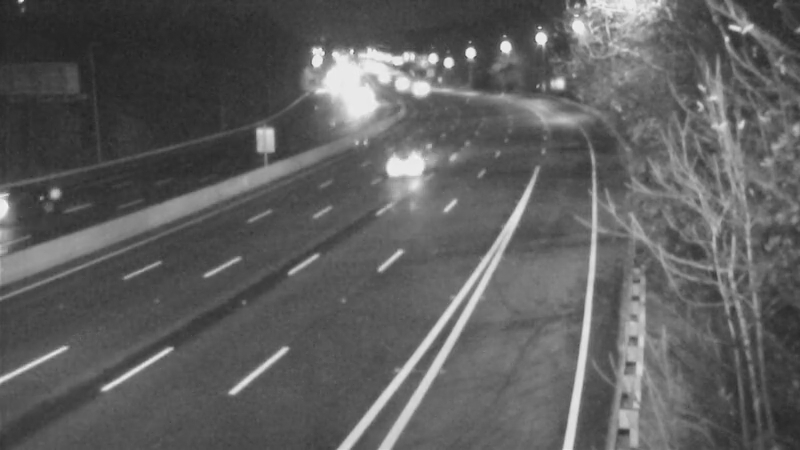vehicle: (370, 128, 450, 208), (1, 156, 78, 236)
